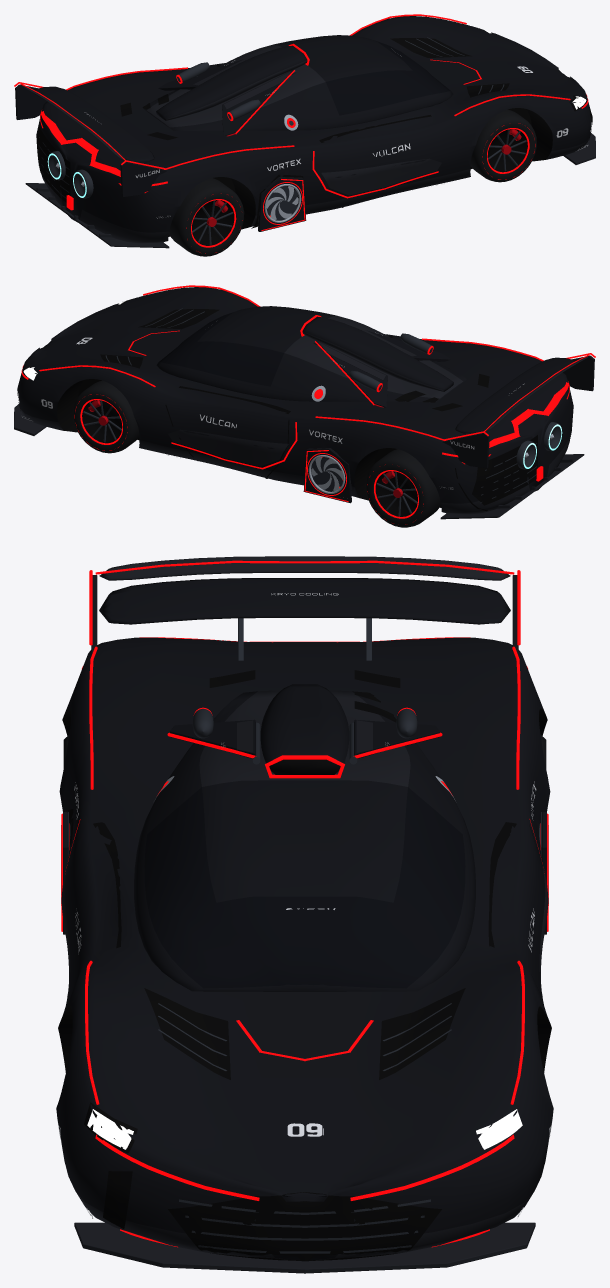
File: vortex.glb
The picture shows the model from 3 angles, top to bottom: view 1: azimuth 30°, elevation 25°; view 2: azimuth 150°, elevation 25°; view 3: azimuth 270°, elevation 25°; orthographic projection. The views are drawn at different scales.
Visible parts, largest first — view 1: body, wheel_RL_spin, wheel_FL_spin, rig_vx_wing_pivot_001_mesh, rig_vx_wing_pivot_mesh, decals; view 2: body, wheel_RR_spin, wheel_FR_spin, rig_vx_wing_pivot_mesh, rig_vx_wing_pivot_001_mesh, decals; view 3: body, rig_vx_wing_pivot_mesh, rig_vx_wing_pivot_001_mesh, decals.
Boxes of the visible parts, <box> form: body: <box>14,14,595,248</box>; wheel_RL_spin: <box>169,178,244,256</box>; wheel_FL_spin: <box>470,109,536,182</box>; rig_vx_wing_pivot_001_mesh: <box>222,69,294,136</box>; rig_vx_wing_pivot_mesh: <box>158,52,265,90</box>; decals: <box>84,55,588,218</box>; body: <box>14,285,595,519</box>; wheel_RR_spin: <box>365,449,440,527</box>; wheel_FR_spin: <box>73,380,139,453</box>; rig_vx_wing_pivot_mesh: <box>315,340,387,407</box>; rig_vx_wing_pivot_001_mesh: <box>344,323,451,361</box>; decals: <box>22,321,524,498</box>; body: <box>56,556,553,1273</box>; rig_vx_wing_pivot_mesh: <box>353,707,442,758</box>; rig_vx_wing_pivot_001_mesh: <box>167,707,256,758</box>; decals: <box>58,593,551,1218</box>.
Bounding box in the file's own units: 5.67 × 1.42 × 2.45.
14 materials, 1 textured.
